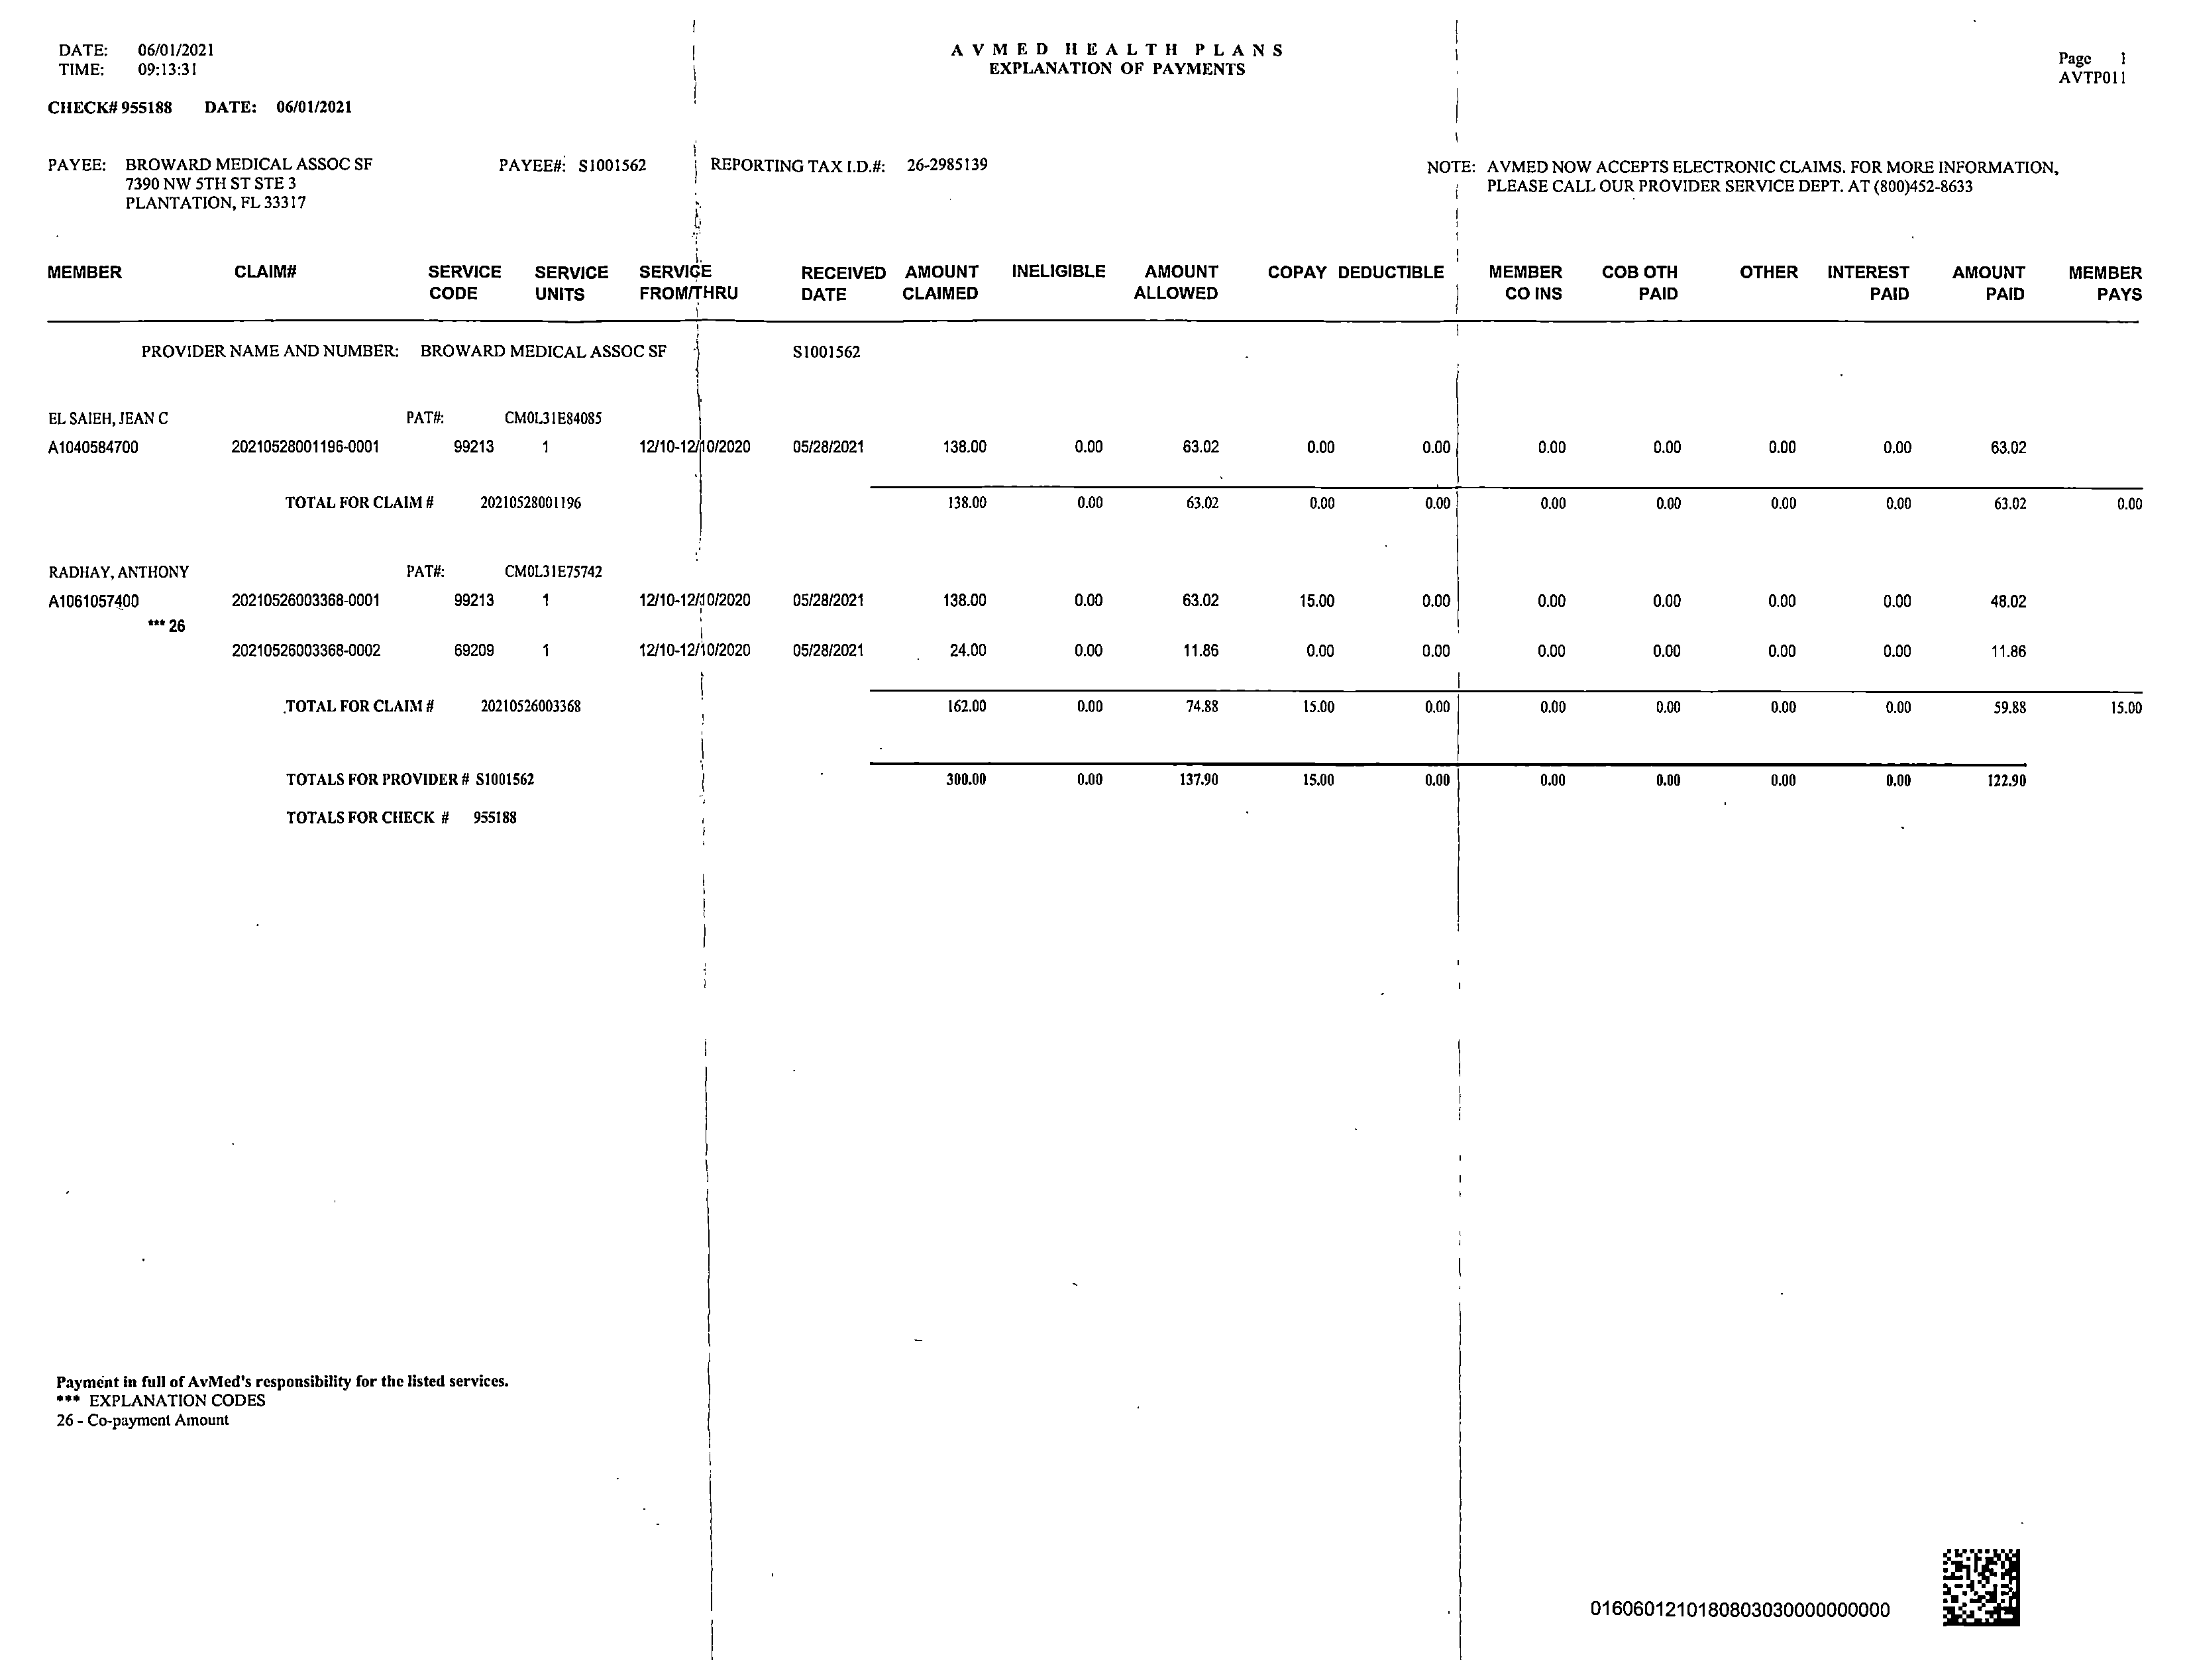data: (484, 124, 1020, 192), (42, 138, 399, 240)
table: (37, 249, 2163, 836)
